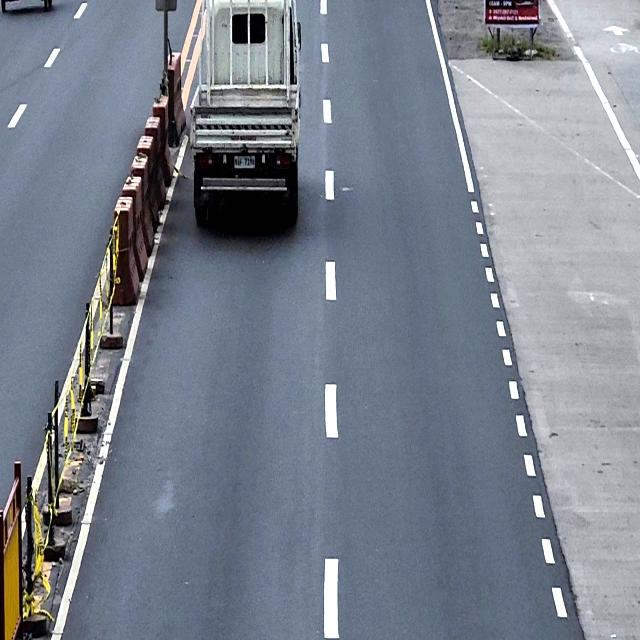License-Plate: (233, 153, 256, 169)
Truck: (189, 0, 302, 228)
